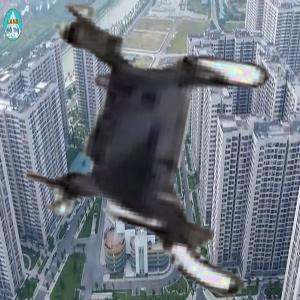drone: (6, 3, 299, 296)
